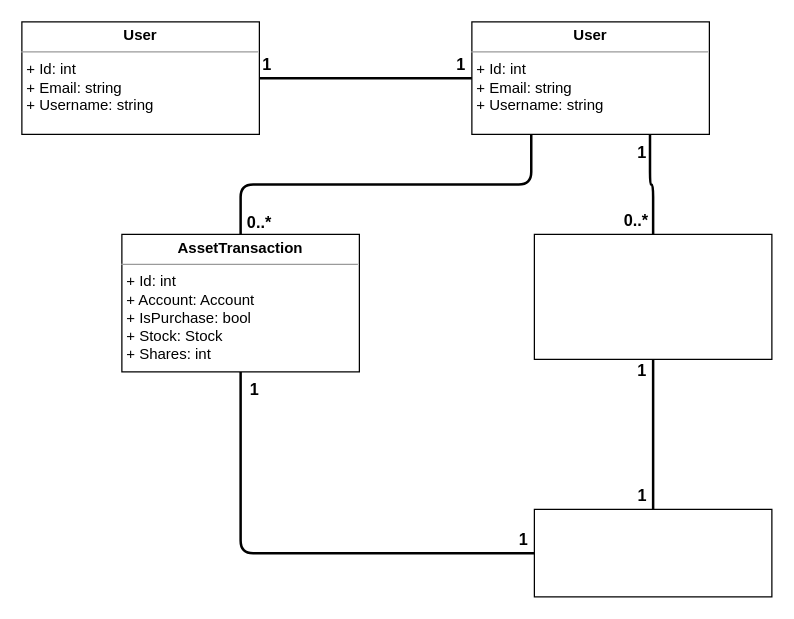
Some shapes in this 794 by 619 pixel diagram are drawn without their labels. The centre of each missing label's shape, as x and y in pixels:
Asset + Id: int + Account: Account + Stock: Stock + Shares: int: the point at 652,296
Stock + Symbol: String + PricePerShare: decimal: the point at 652,552
